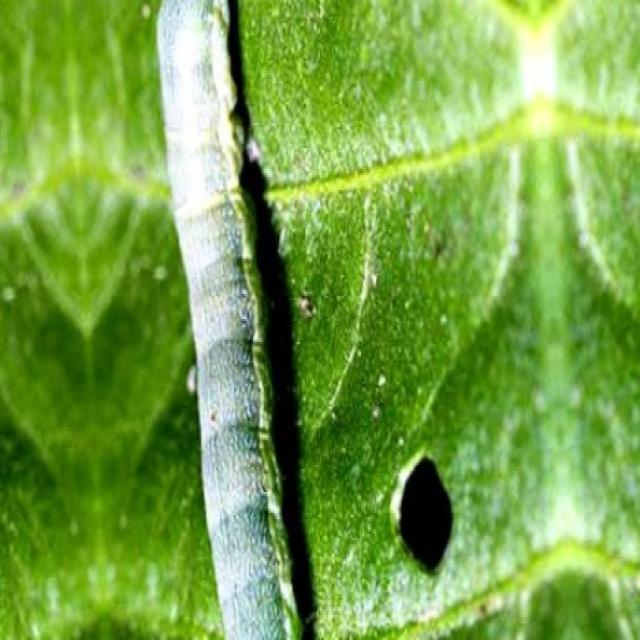Armyworm: (132, 1, 320, 640)
Armyworm_damage: (379, 449, 467, 594)
